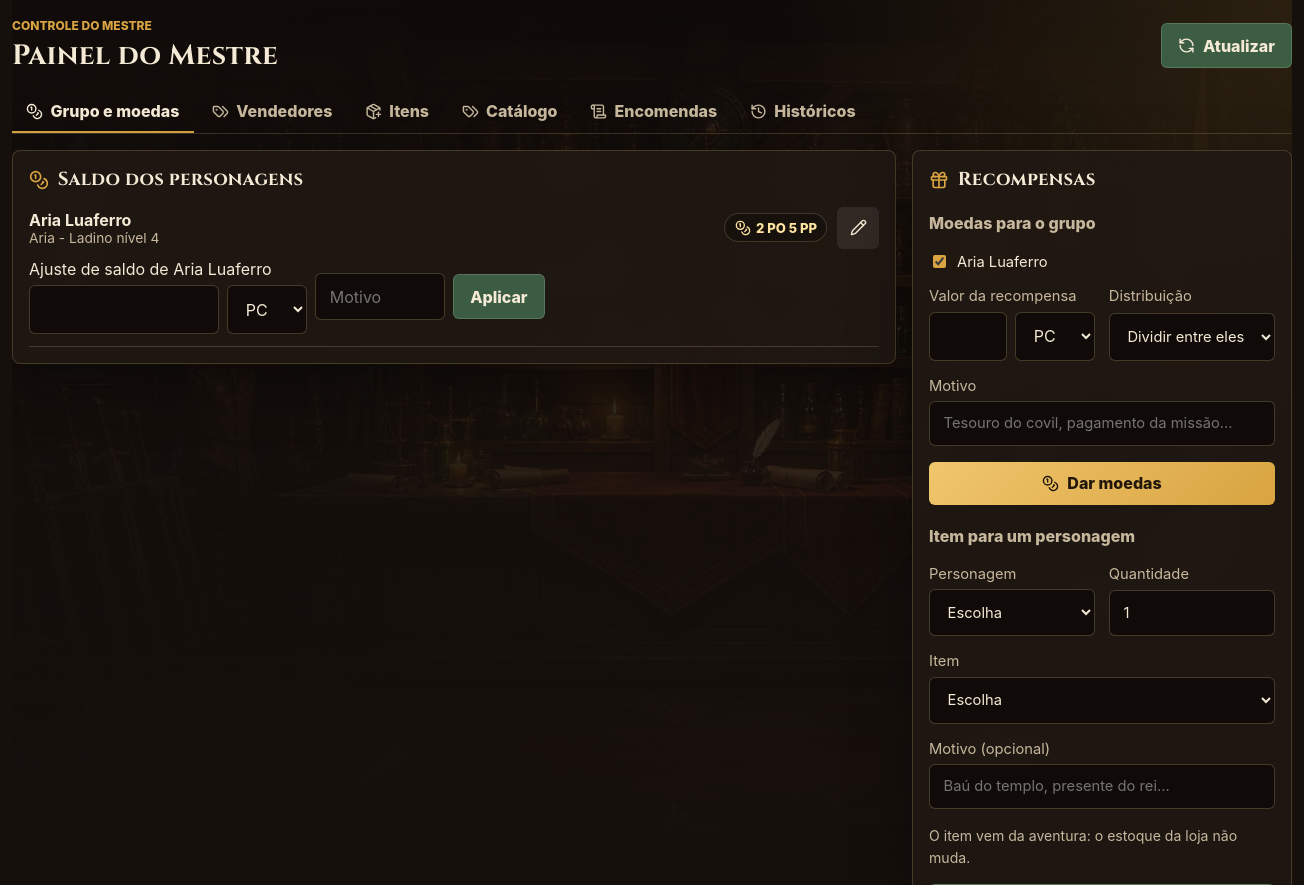
Scenario: AdminPage › abre na aba do grupo e carrega os dados da aba escolhida
Expected: the text "Aria Luaferro" is shown, [29,210,131,230]
What coordinates should you click on to do the following:
click the tab "Itens"
I would click on:
 (397, 112)
Its box is [351,91,444,133].
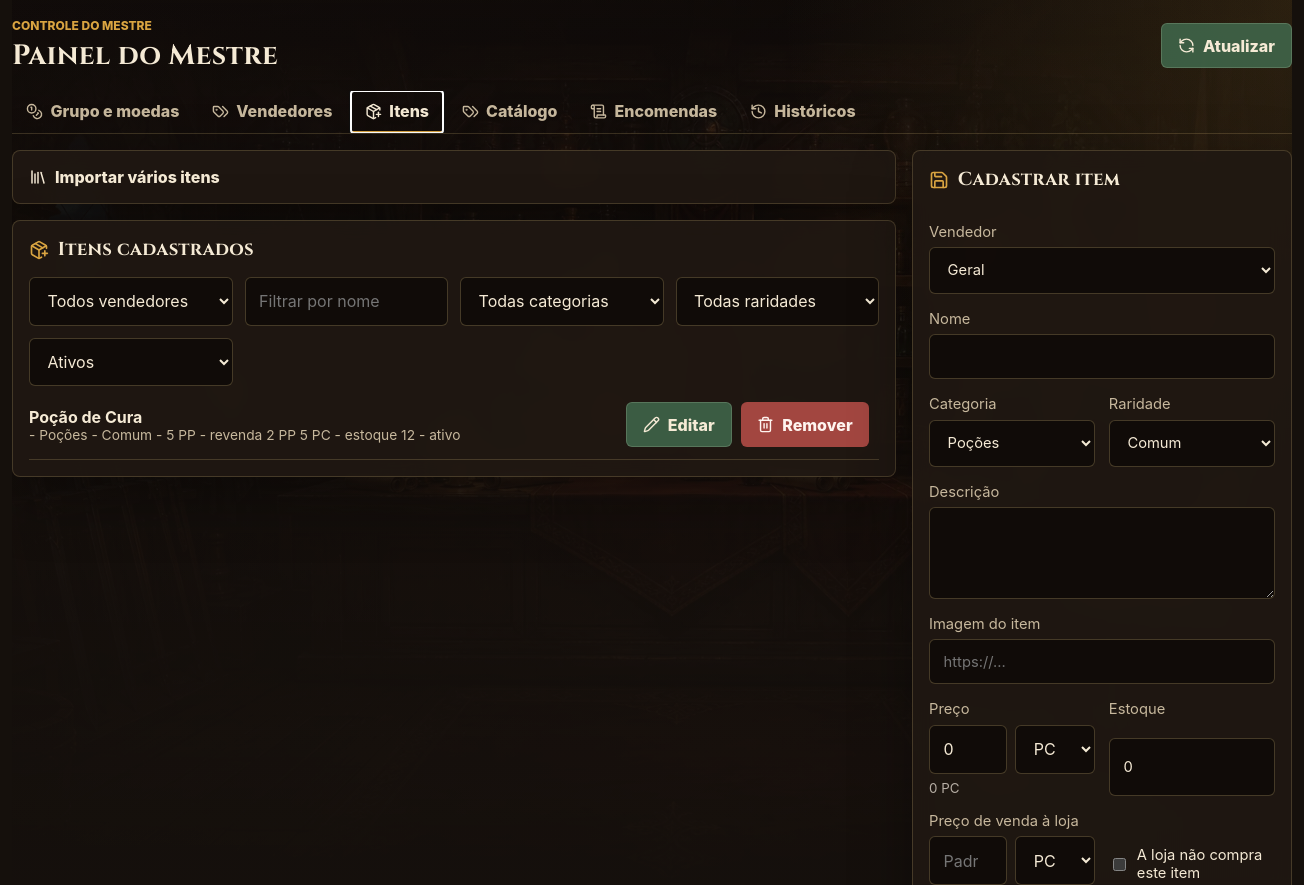
Now the heading "Itens cadastrados" is shown, box [58,237,254,262]
Now the text "Poção de Cura" is shown, box [29,407,142,427]
What coordinates should you click on to do the following:
click the tab "Catálogo"
I would click on:
 (510, 112)
Its box is [447,91,572,133].
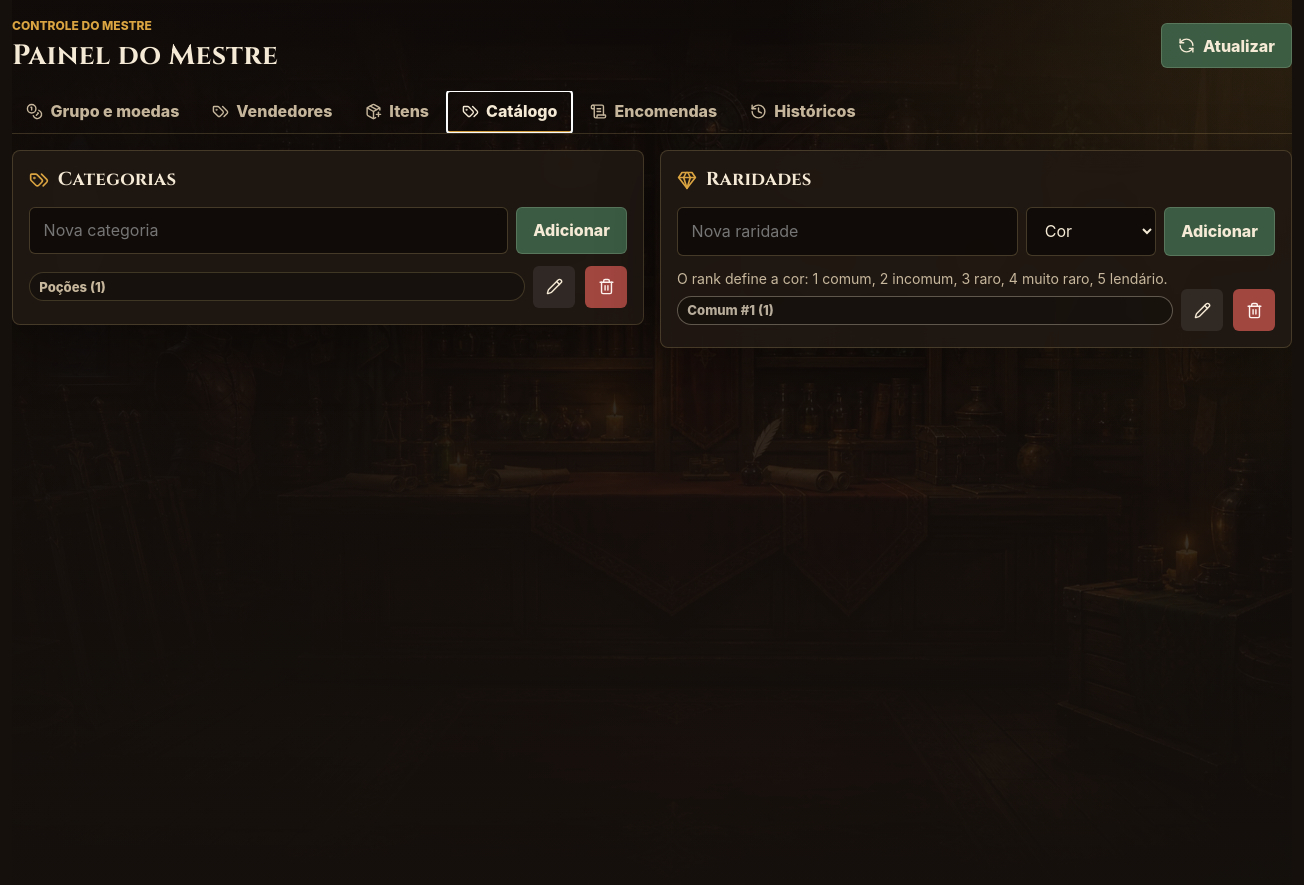
Now the text "Poções (1)" is shown, box [29,272,525,301]
